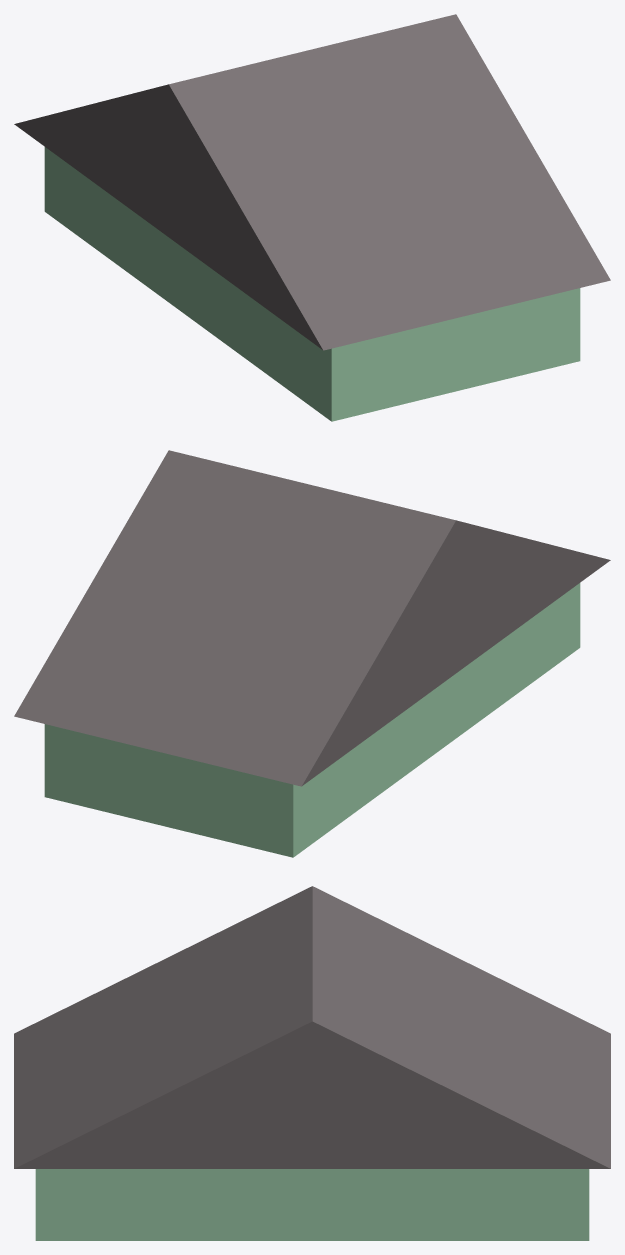
Rendered from house2.fbx.
The picture shows the model from 3 angles, top to bottom: view 1: azimuth 30°, elevation 25°; view 2: azimuth 150°, elevation 25°; view 3: azimuth 270°, elevation 25°; orthographic projection. The views are drawn at different scales.
Parts seen in each view (by area): view 1: house2; view 2: house2; view 3: house2.
Boxes of the visible parts, x1,y1,x2,y2 form: house2: (14,14,610,421); house2: (14,450,610,857); house2: (14,886,610,1240).
Size of the model in its own units: 2315 by 1825 by 4315.
